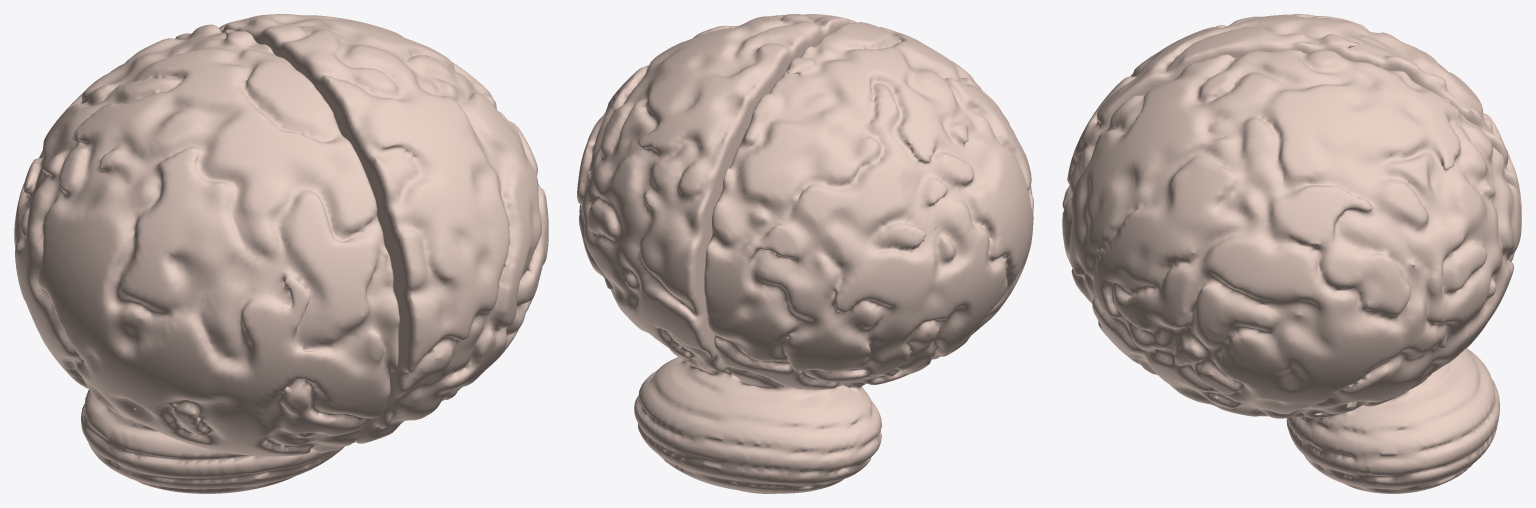
Rendered from organ-brain.glb.
3 renders of one model, left to right at view 1: azimuth 30°, elevation 25°; view 2: azimuth 150°, elevation 25°; view 3: azimuth 270°, elevation 25°, orthographic. The views are drawn at different scales.
Visible parts, largest first — view 1: world; view 2: world; view 3: world.
Boxes of the visible parts, x1,y1,x2,y2 form: world: [14, 14, 548, 493]; world: [577, 14, 1033, 493]; world: [1062, 14, 1521, 493].
Bounding box in the file's own units: 0.2722 × 0.2622 × 0.2556.
